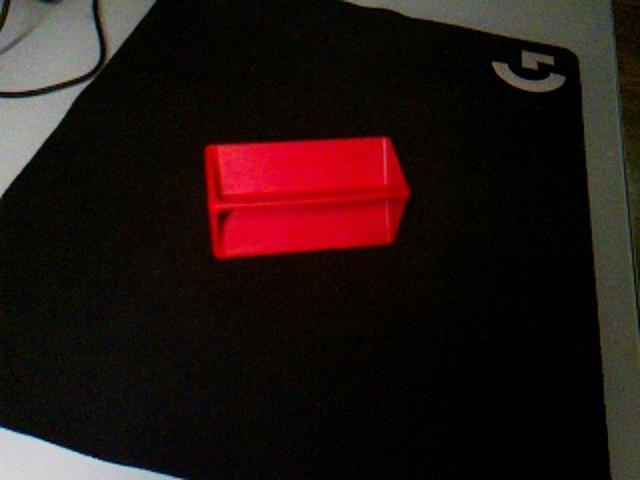red: (203, 134, 412, 261)
